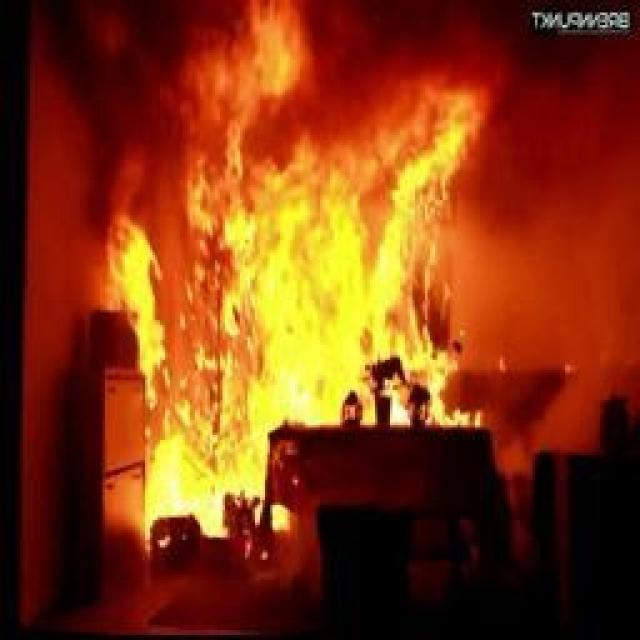fire: (62, 2, 528, 560)
